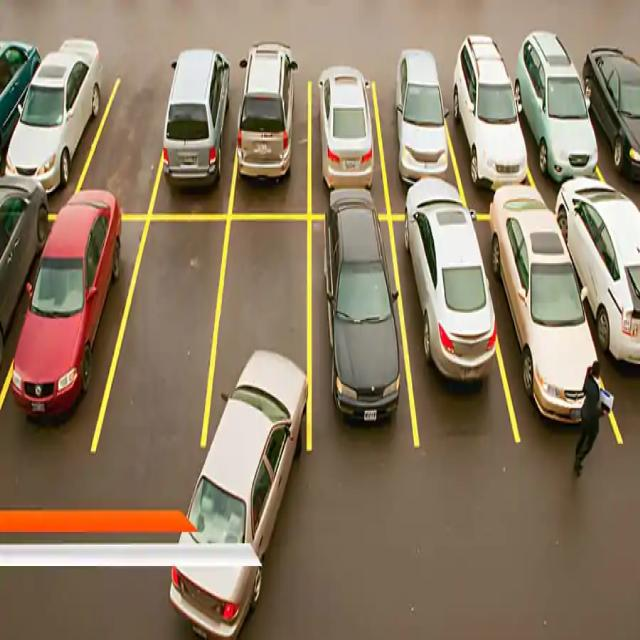libre: (101, 229, 225, 444), (89, 60, 164, 242)
ocupado: (311, 55, 640, 430), (184, 228, 304, 597), (0, 31, 103, 441), (170, 36, 301, 208)
